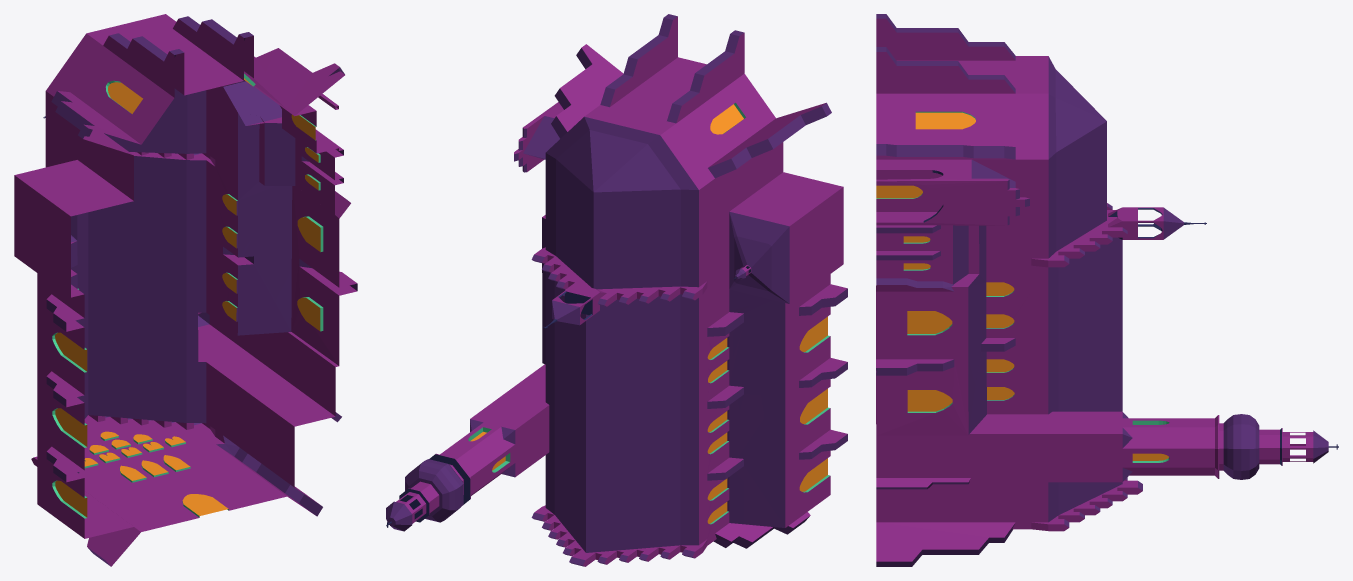
File: Kościół św Jana Chrzciciela Tier 3.fbx
3 renders of one model, left to right at view 1: azimuth 30°, elevation 25°; view 2: azimuth 150°, elevation 25°; view 3: azimuth 270°, elevation 25°, orthographic. The views are drawn at different scales.
Parts seen in each view (by area): view 1: Cube_Cube_004; view 2: Cube_Cube_004; view 3: Cube_Cube_004.
Part boxes in pixels (box(x1,y1,x2,y2)): Cube_Cube_004: box(14, 14, 357, 566); Cube_Cube_004: box(386, 14, 847, 566); Cube_Cube_004: box(876, 14, 1338, 566).
Bounding box in the file's own units: 3.35 × 5.46 × 4.72.
